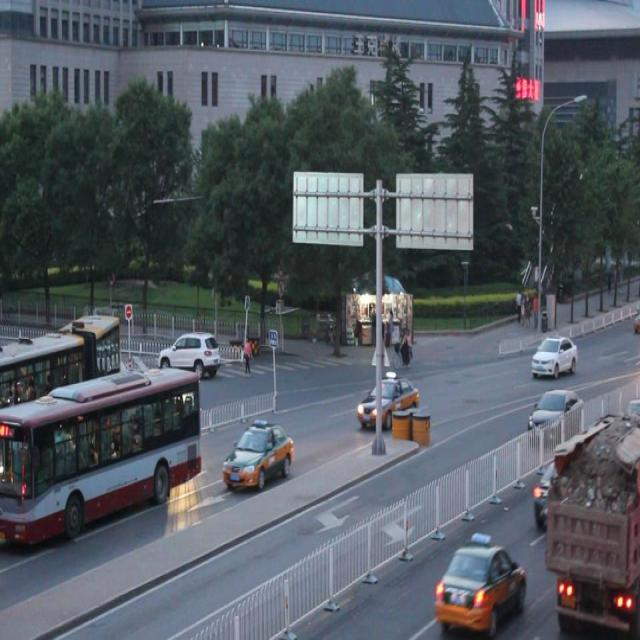bus: (544, 410, 640, 632)
car: (432, 531, 526, 632), (221, 416, 294, 494), (532, 453, 597, 532), (356, 371, 419, 431), (158, 329, 220, 379), (528, 384, 584, 436), (529, 331, 577, 380), (128, 356, 170, 407)
van: (1, 370, 202, 543), (1, 314, 120, 421)
